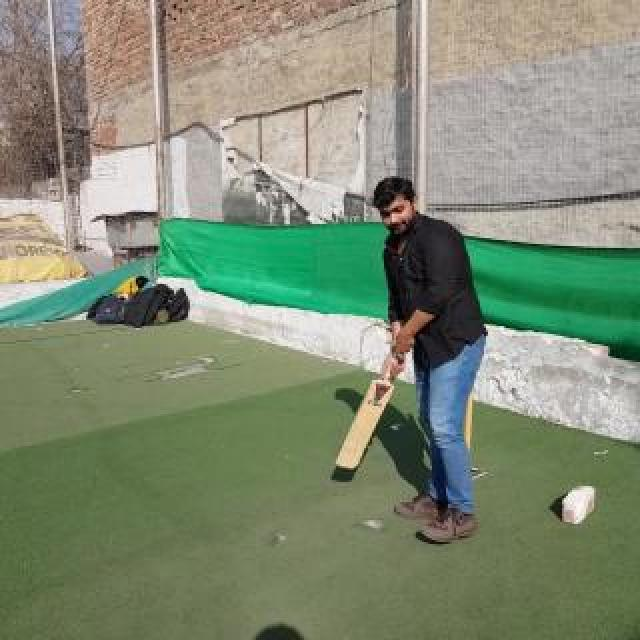bat: (336, 360, 394, 470)
